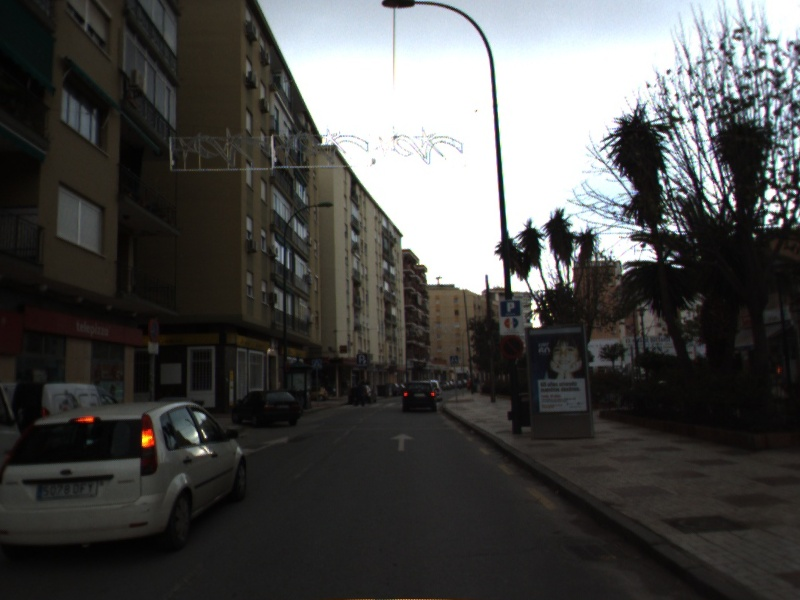STRAIGHT: (245, 433, 291, 457), (388, 431, 417, 453)
